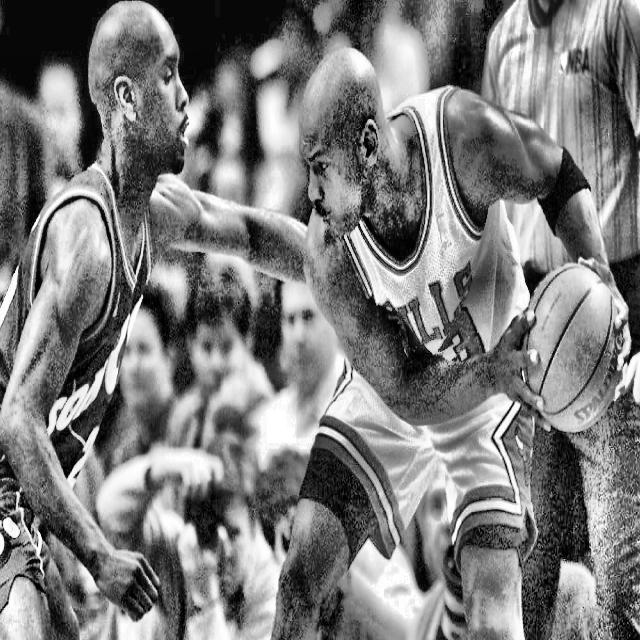Basketball: (527, 262, 620, 431)
